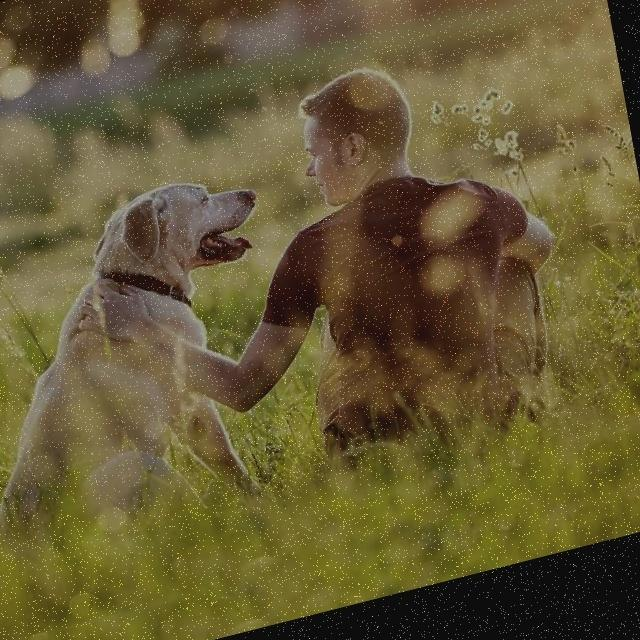dog: (0, 140, 290, 558)
person: (247, 16, 584, 493)
